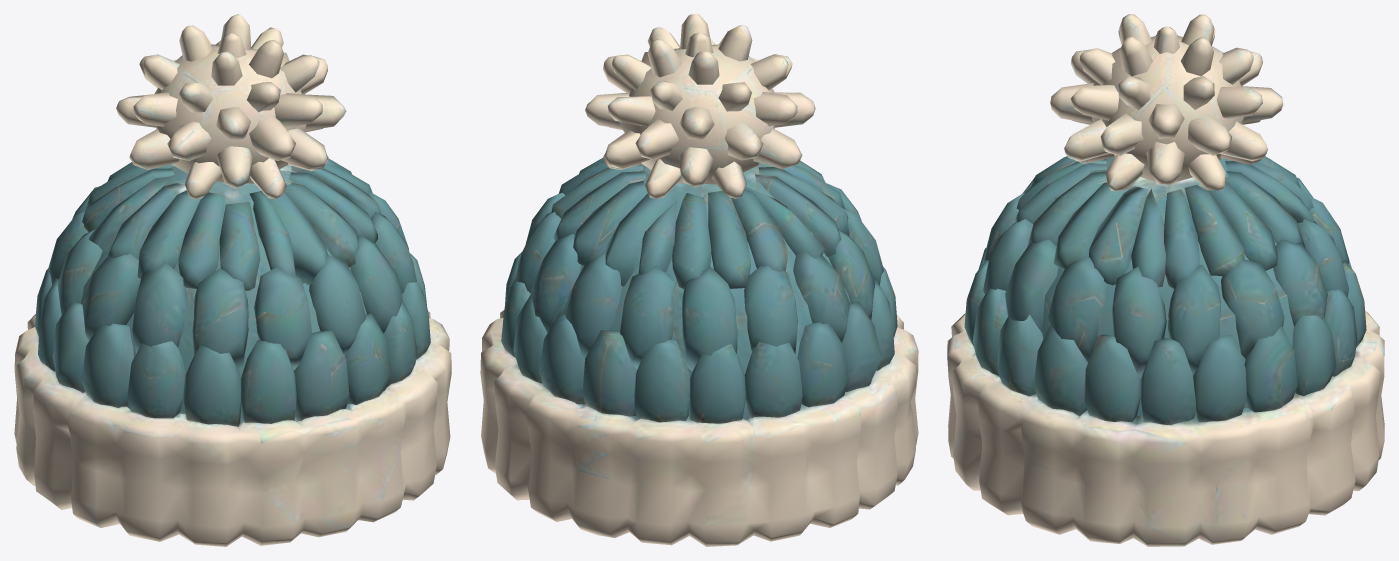
File: hat_beanie.glb
3 views of the same model, side by side, from view 1: azimuth 30°, elevation 25°; view 2: azimuth 150°, elevation 25°; view 3: azimuth 270°, elevation 25° (orthographic).
Size of the model in its own units: 0.9281 by 1 by 0.9177.
1 material, 1 textured.
